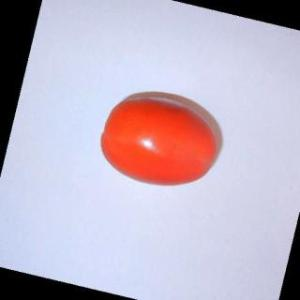tomato: (94, 84, 226, 206)
